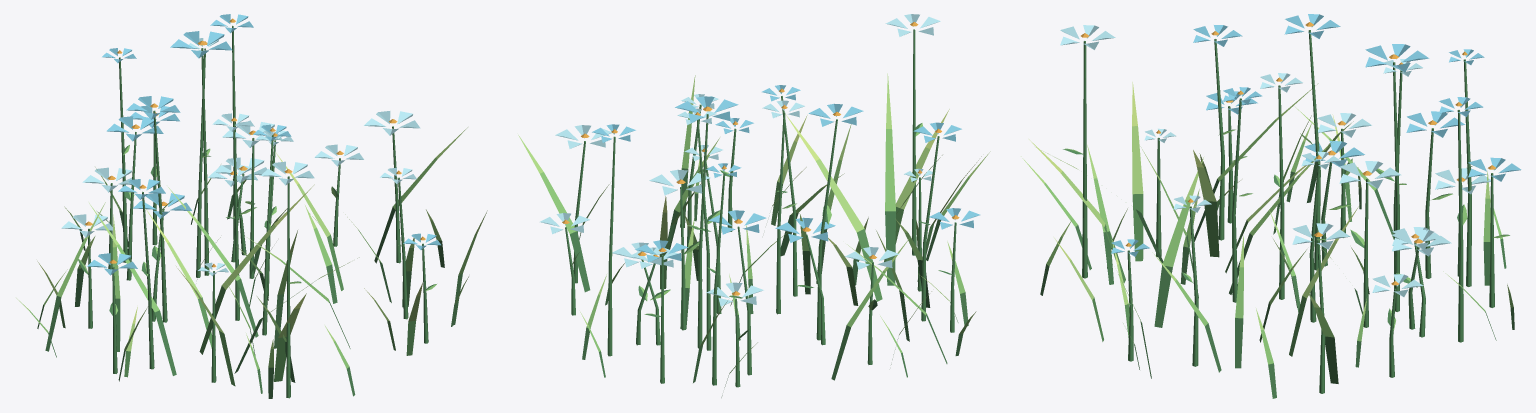
Rendered from Flower_03_Blue.glb.
3 views of the same model, side by side, from view 1: azimuth 30°, elevation 25°; view 2: azimuth 150°, elevation 25°; view 3: azimuth 270°, elevation 25° (orthographic). The views are drawn at different scales.
Parts seen in each view (by area): view 1: Flower_03_Blue; view 2: Flower_03_Blue; view 3: Flower_03_Blue.
Part boxes in pixels (x1=…): Flower_03_Blue: x1=16, y1=14, x2=487, y2=398; Flower_03_Blue: x1=518, y1=14, x2=990, y2=397; Flower_03_Blue: x1=1021, y1=14, x2=1521, y2=398.
Size of the model in its own units: 1.16 by 0.5789 by 1.04.
